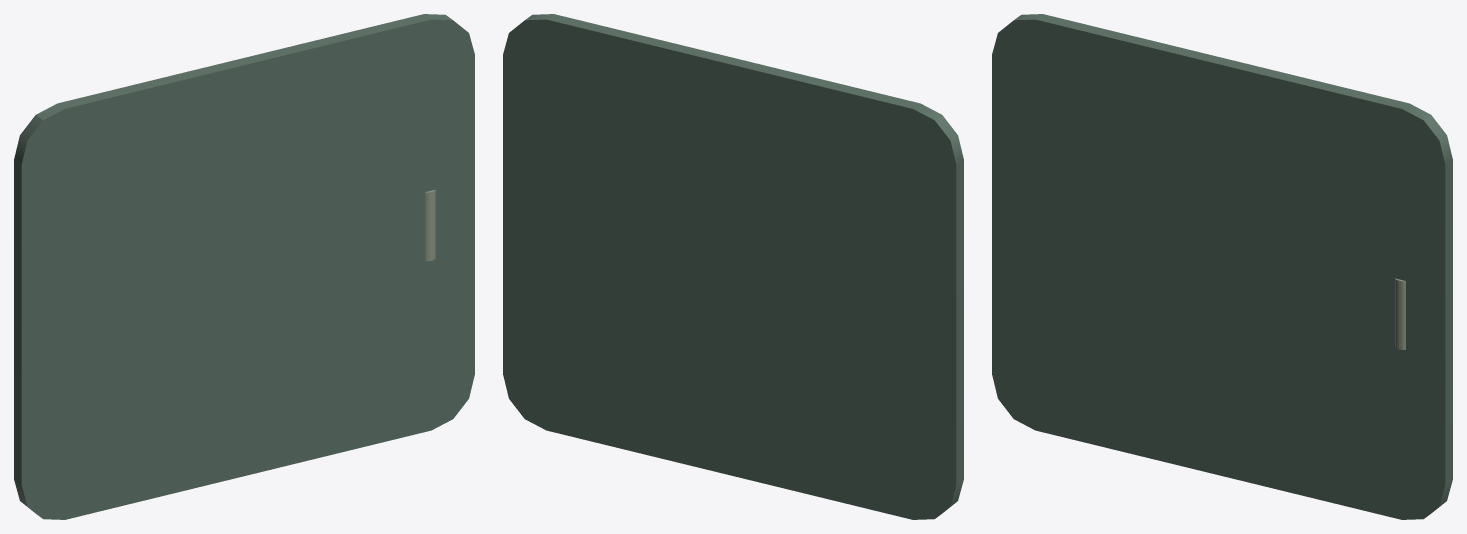
Rendered from puerta_lavadora.obj.
3 views of the same model, side by side, from view 1: azimuth 30°, elevation 25°; view 2: azimuth 150°, elevation 25°; view 3: azimuth 330°, elevation 25° (orthographic).
Visible parts, largest first — view 1: polySurface5620; view 2: polySurface5620; view 3: polySurface5620.
Boxes of the visible parts, box(x1,y1,x2,y2) form: polySurface5620: box(14, 14, 474, 519); polySurface5620: box(503, 14, 963, 519); polySurface5620: box(992, 14, 1452, 519).
Bounding box in the file's own units: 3.21 × 2.78 × 0.1096.
2 materials, 2 textured.
